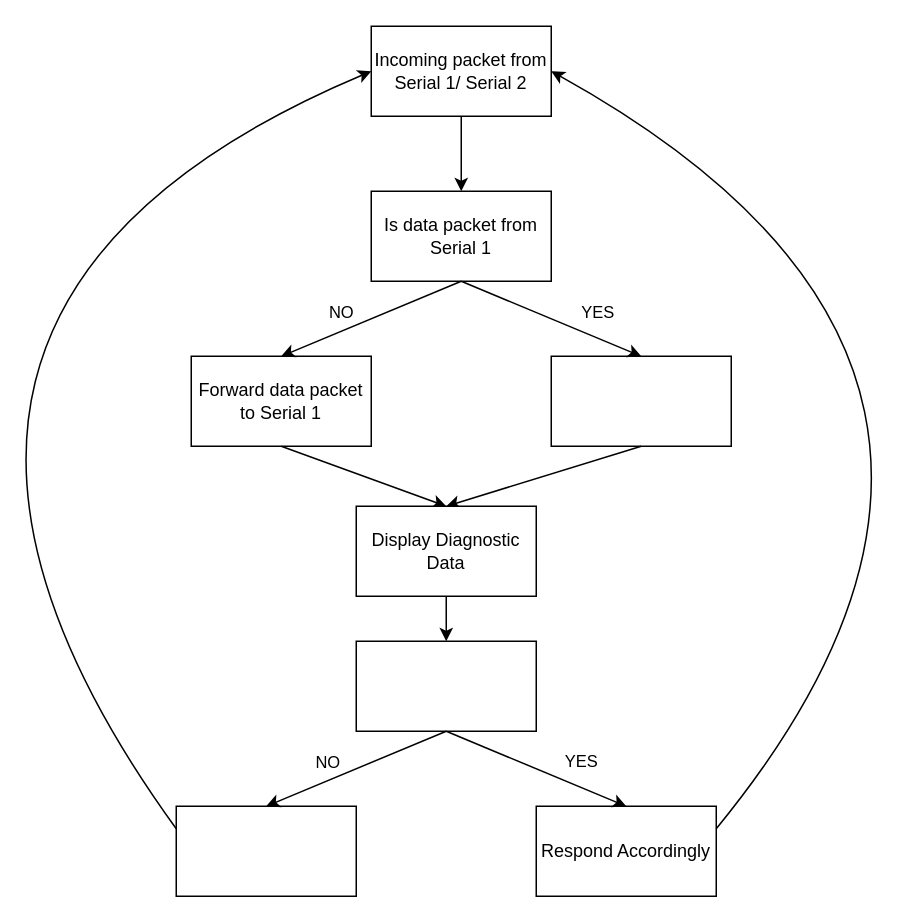
Image size: 899x923. Some labels were removed from this diagram. Each missing label, with the box of its shape:
Forward data packet to Serial 2: (550, 355, 731, 446)
Is next sub-state SNC?: (355, 640, 536, 731)
Wait for correct data packet for SNC: (175, 805, 356, 896)
